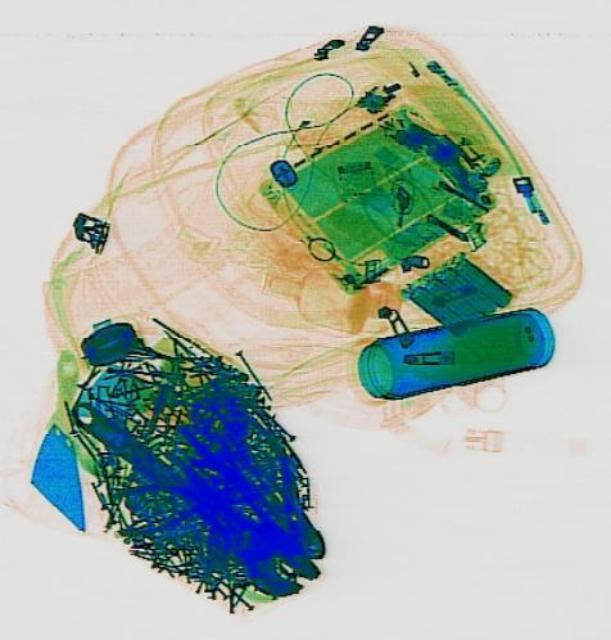Wrench: (49, 378, 324, 614)
